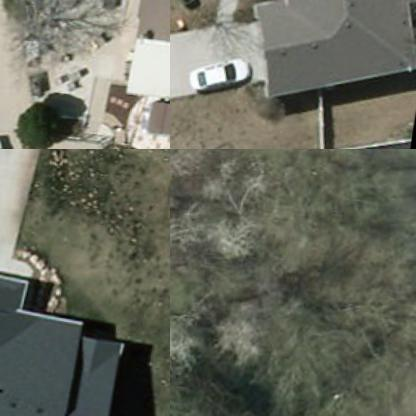car: (194, 46, 258, 101)
